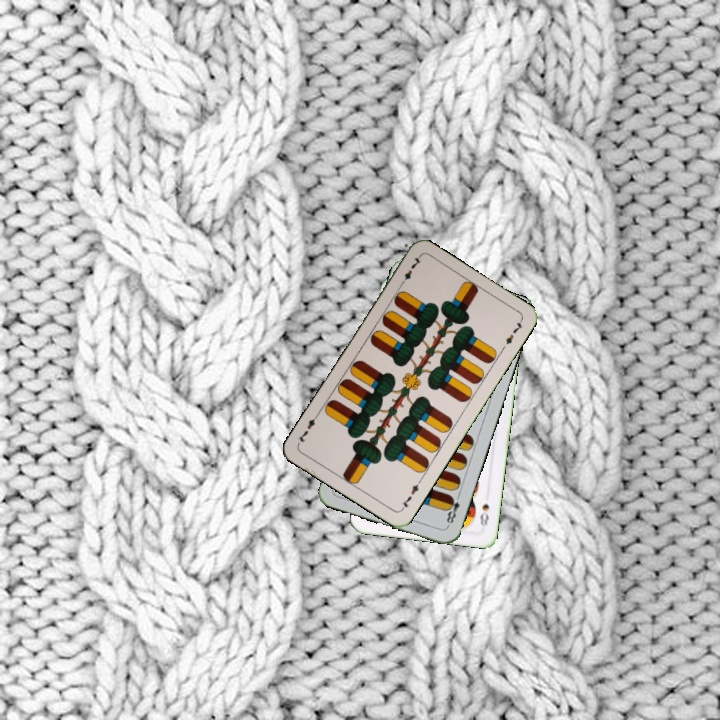E7: (396, 253, 424, 289), (397, 476, 424, 513)
E8: (442, 490, 463, 529)
S8: (476, 499, 492, 532)
